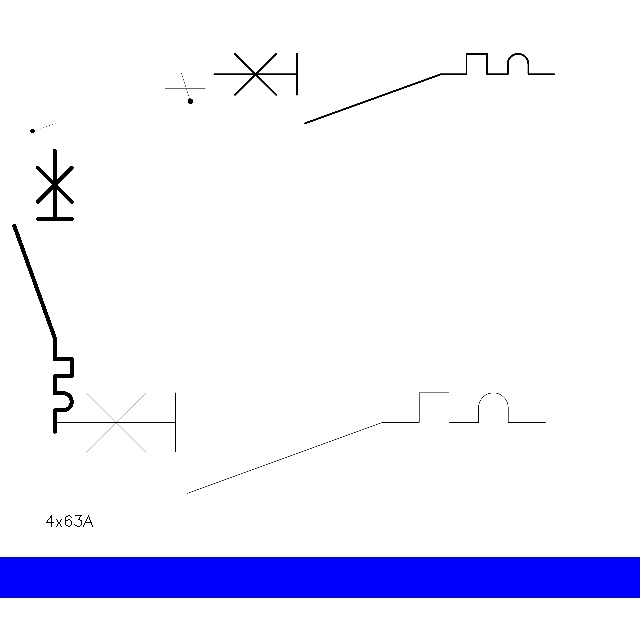interruptor_termomagnetico: (44, 380, 558, 506), (205, 45, 563, 132), (7, 143, 79, 439)
